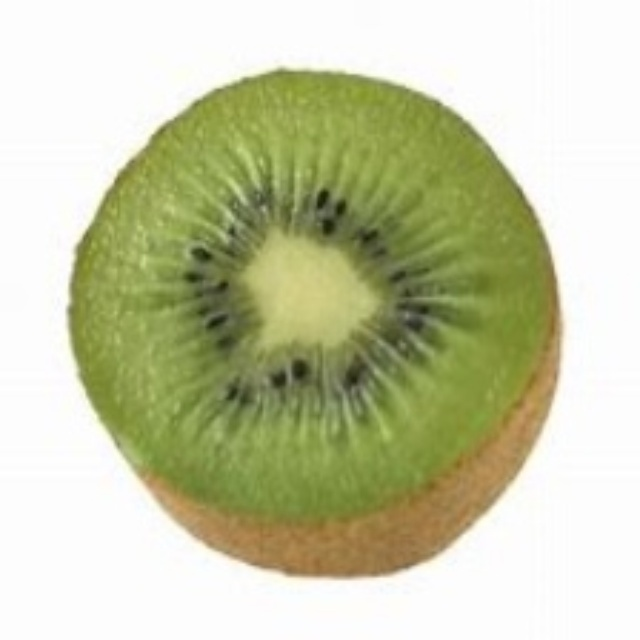kiwi: (69, 64, 565, 575)
